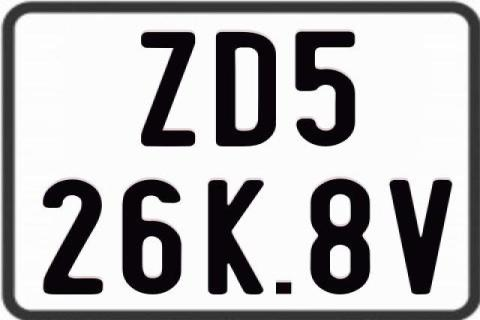0: (293, 30, 355, 148), (308, 177, 368, 297), (41, 179, 103, 295), (120, 178, 179, 294)
D: (216, 31, 277, 151)
K: (205, 178, 263, 294)
V: (389, 178, 456, 298)
Z: (138, 32, 196, 150)
